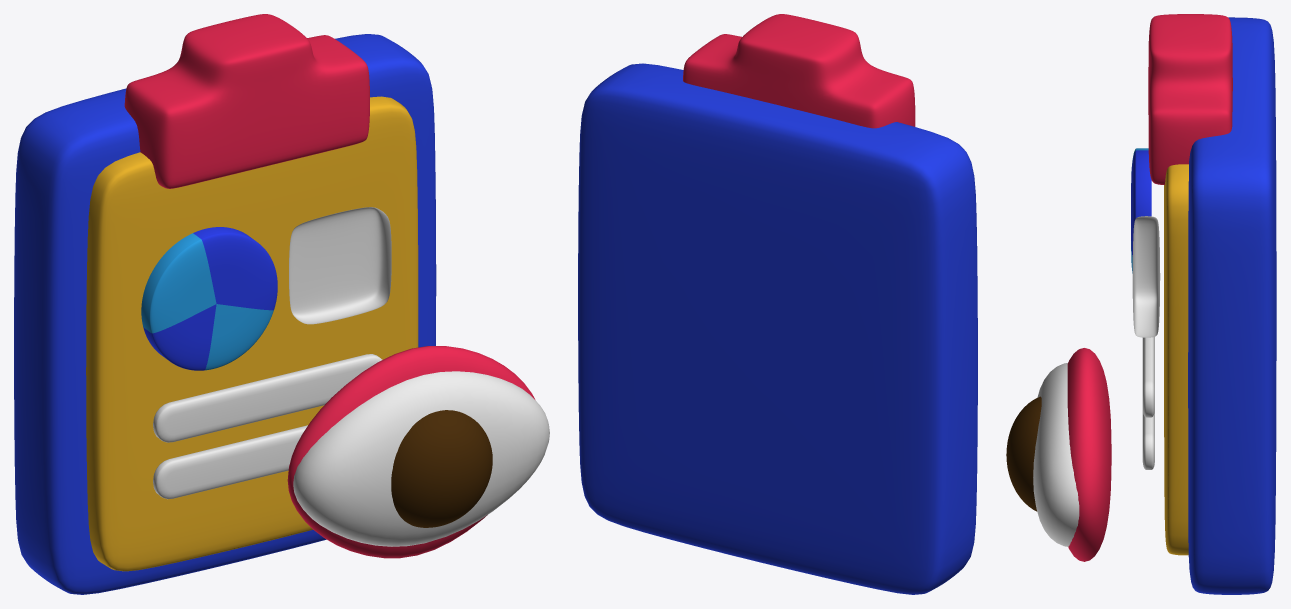
Rendered from inspection-3d-icon-180572745162.glb.
3 renders of one model, left to right at view 1: azimuth 30°, elevation 25°; view 2: azimuth 150°, elevation 25°; view 3: azimuth 270°, elevation 25°, orthographic. The views are drawn at different scales.
Parts seen in each view (by area): view 1: Paper, Board, Clip, Picture & Text, Sclera, Iris, Eyelid, Chart 2, Chart 1; view 2: Board, Clip; view 3: Board, Clip, Paper, Eyelid, Sclera, Picture & Text, Iris, Chart 1.
Part boxes in pixels (x1,y1,x2,y2): Paper: [86, 96, 418, 571]; Board: [14, 34, 436, 594]; Clip: [124, 14, 369, 188]; Picture & Text: [153, 207, 391, 499]; Sclera: [293, 371, 549, 546]; Iris: [391, 410, 492, 527]; Eyelid: [287, 346, 535, 558]; Chart 2: [141, 233, 273, 370]; Chart 1: [143, 227, 277, 370]; Board: [578, 63, 977, 594]; Clip: [683, 14, 915, 128]; Board: [1188, 17, 1276, 594]; Clip: [1148, 14, 1232, 184]; Paper: [1164, 164, 1188, 555]; Eyelid: [1067, 348, 1111, 561]; Sclera: [1033, 363, 1079, 546]; Picture & Text: [1132, 216, 1160, 469]; Iris: [1006, 396, 1041, 511]; Chart 1: [1131, 150, 1151, 256].
Bounding box in the file's own units: 1.3 × 1.54 × 0.7593.
